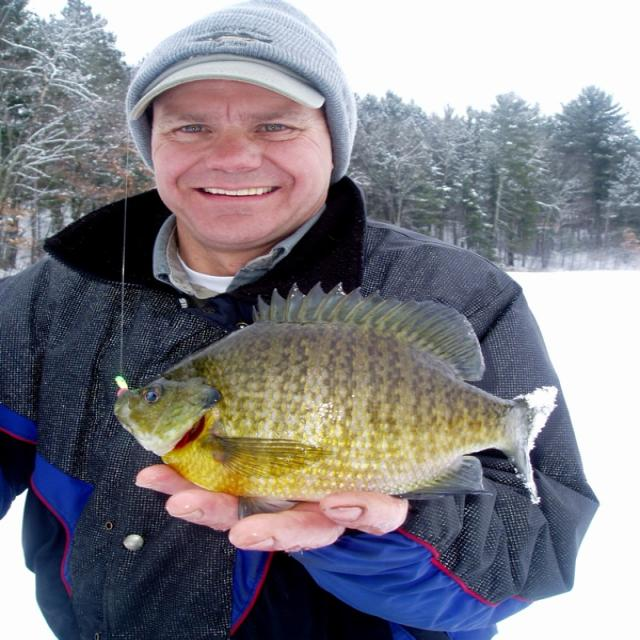Bluegill: (113, 286, 555, 517)
